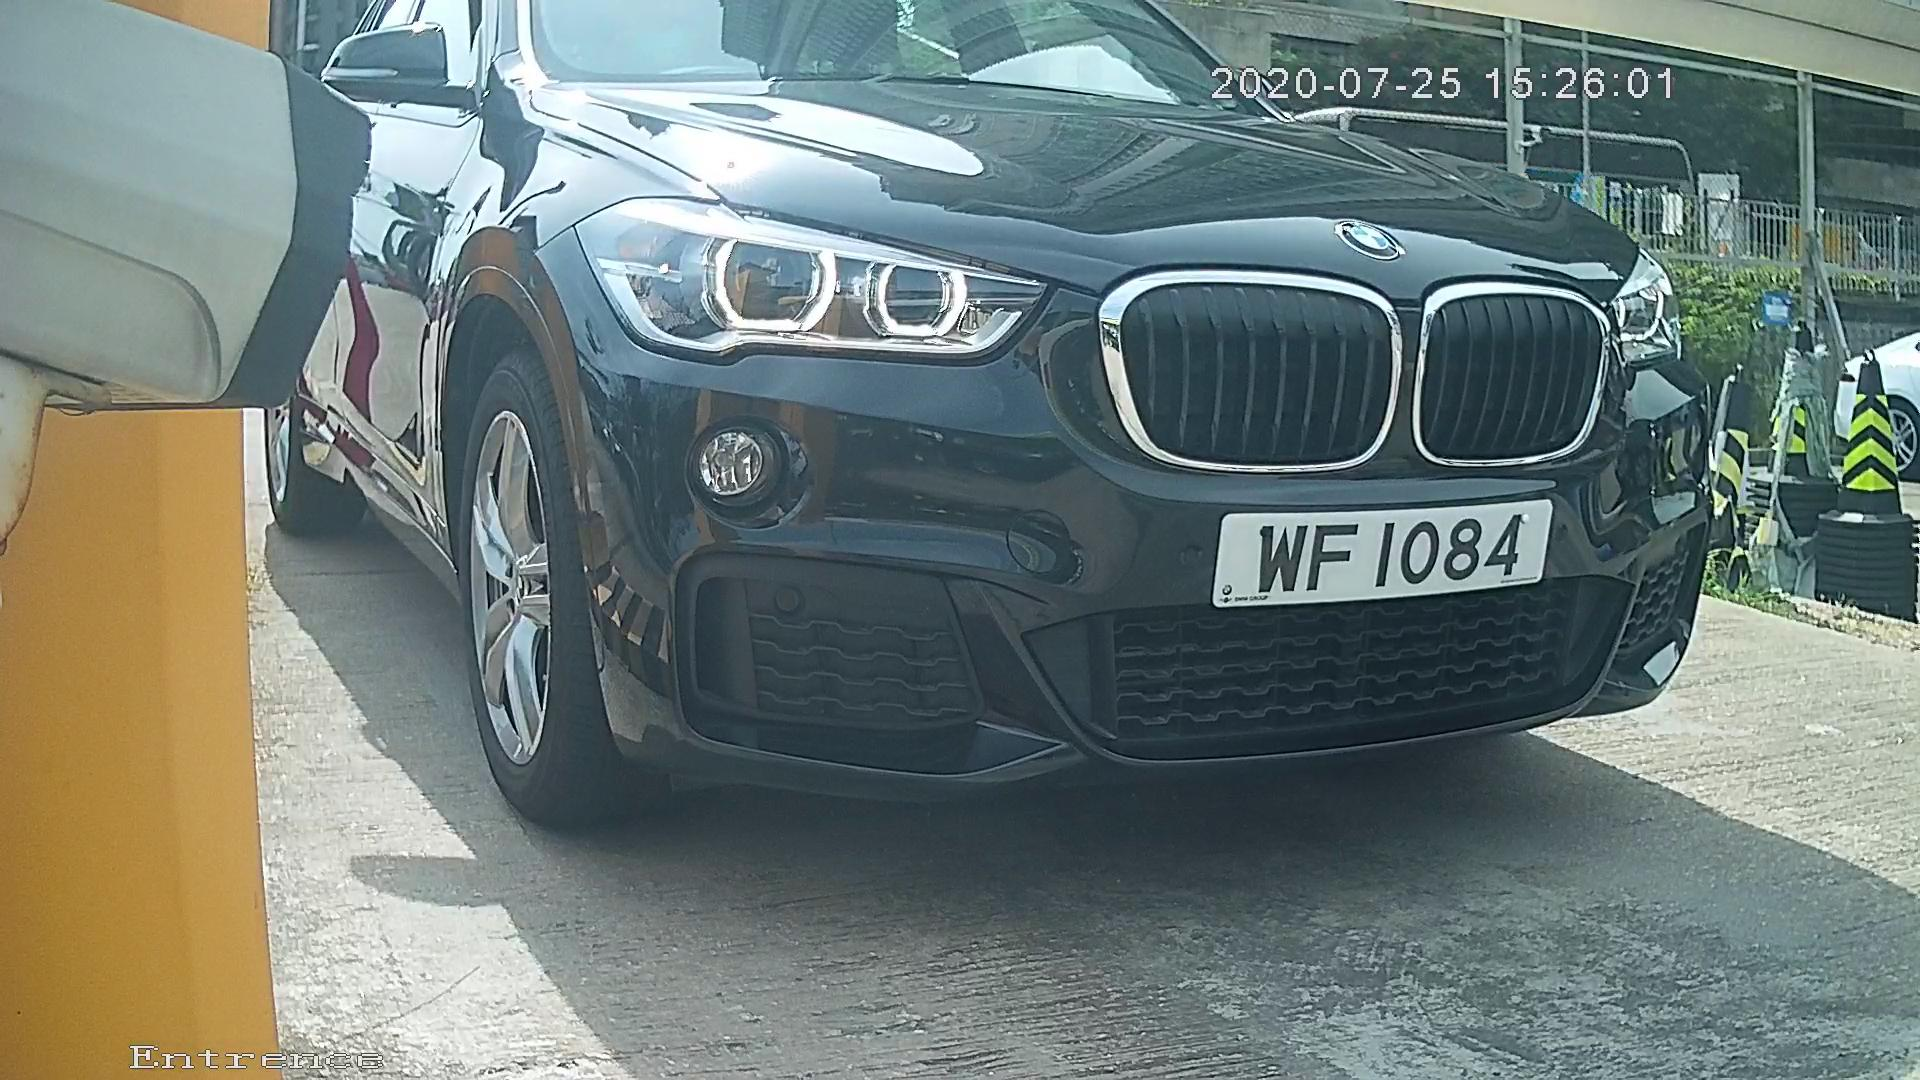Car: (138, 1, 1869, 883)
License Plate: (1192, 483, 1560, 618)
